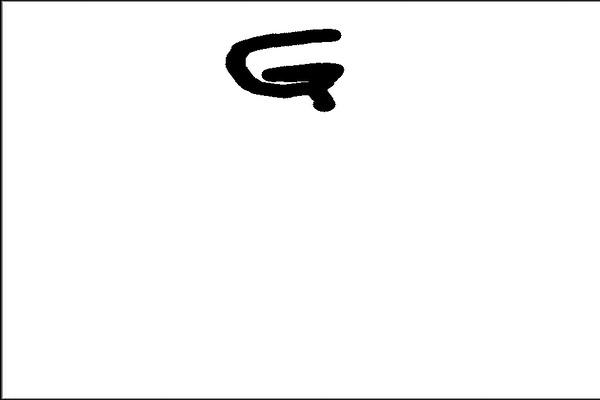G: (222, 24, 347, 113)
